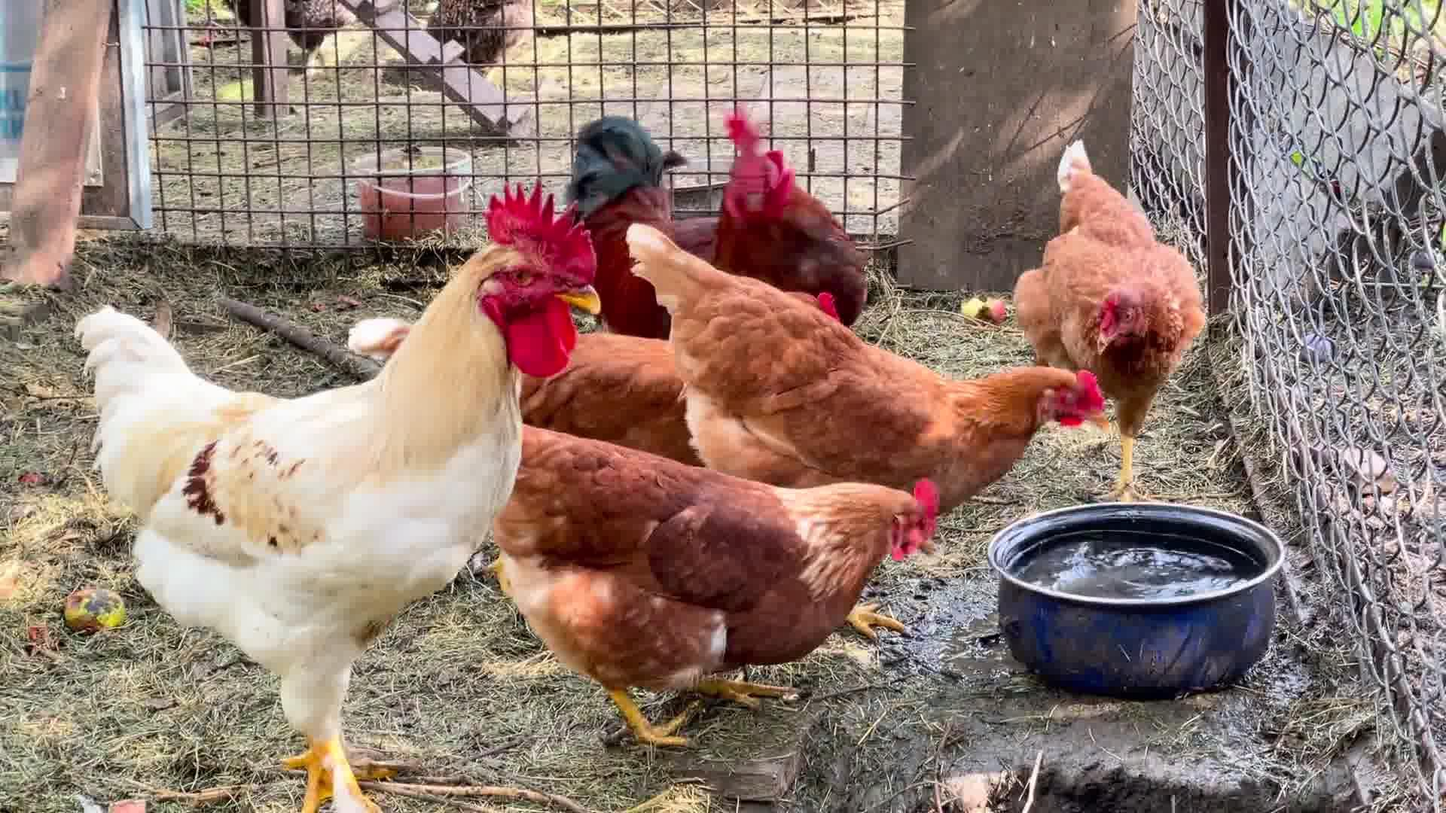Normal: (74, 179, 602, 813), (629, 222, 1117, 518), (522, 422, 921, 752), (552, 106, 888, 333), (1013, 142, 1209, 497)
